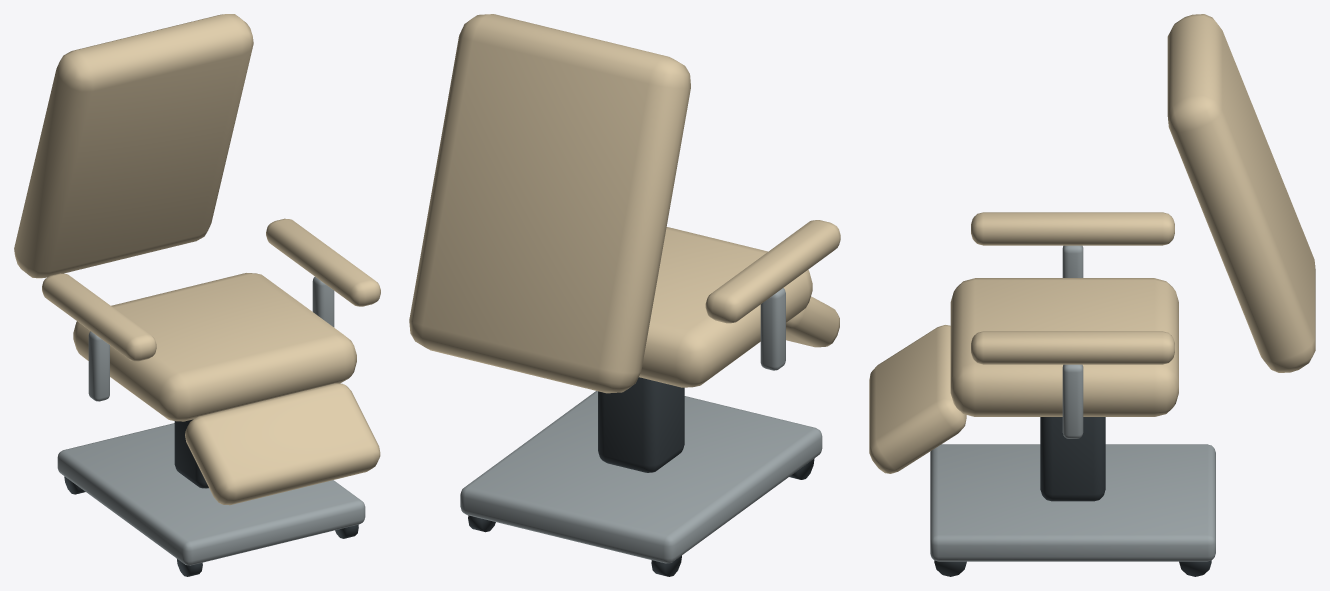
Rendered from TreatmentRecliner_starter.glb.
3 renders of one model, left to right at view 1: azimuth 30°, elevation 25°; view 2: azimuth 150°, elevation 25°; view 3: azimuth 270°, elevation 25°, orthographic. The views are drawn at different scales.
Parts seen in each view (by area): view 1: TreatmentRecliner_starter; view 2: TreatmentRecliner_starter; view 3: TreatmentRecliner_starter.
Part boxes in pixels (<box>): TreatmentRecliner_starter: <box>14,14,380,576</box>; TreatmentRecliner_starter: <box>409,14,840,576</box>; TreatmentRecliner_starter: <box>869,14,1315,576</box>.
Bounding box in the file's own units: 0.78 × 1.29 × 1.09.
